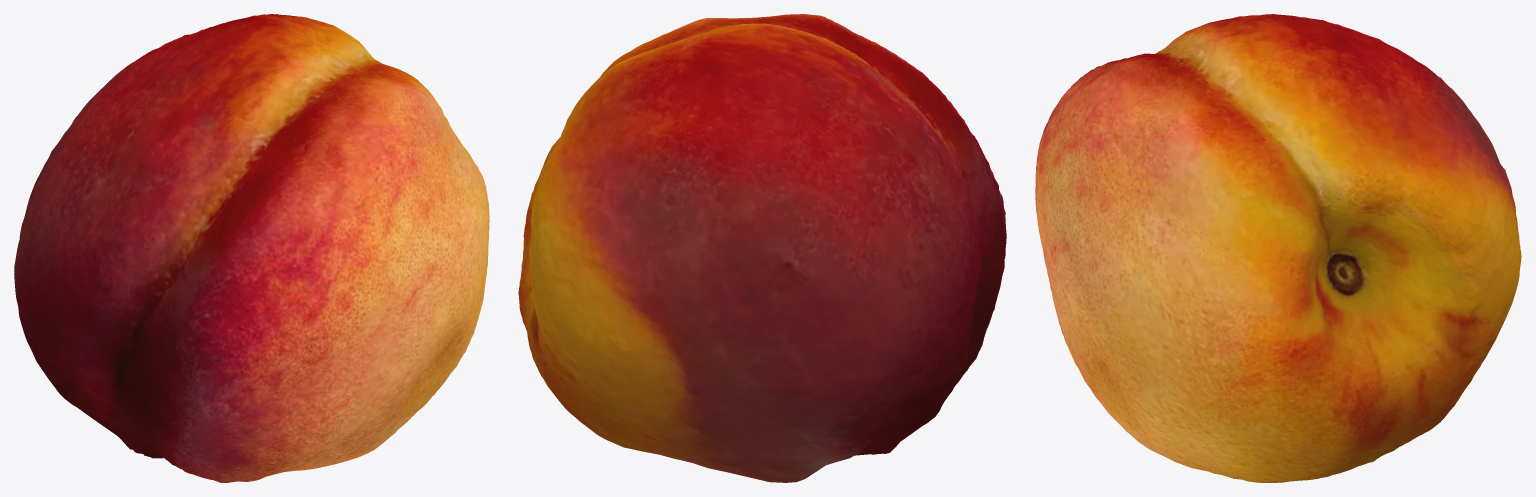
File: apricot.glb
The picture shows the model from 3 angles, left to right: view 1: azimuth 30°, elevation 25°; view 2: azimuth 150°, elevation 25°; view 3: azimuth 270°, elevation 25°; orthographic projection. The views are drawn at different scales.
Visible parts, largest first — view 1: fruitai_marime_reala; view 2: fruitai_marime_reala; view 3: fruitai_marime_reala.
Part boxes in pixels (bbox=[...]): fruitai_marime_reala: bbox=[14, 14, 489, 482]; fruitai_marime_reala: bbox=[518, 14, 1006, 482]; fruitai_marime_reala: bbox=[1035, 14, 1521, 482].
Size of the model in its own units: 0.0397 by 0.0356 by 0.0376.
Materials: 1 (1 with a texture image).
